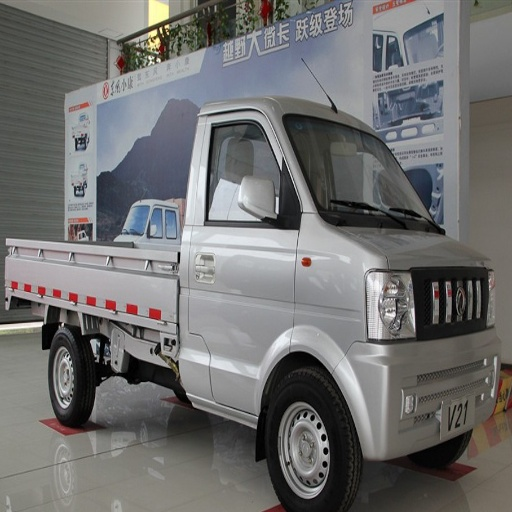front_bumper: (348, 329, 504, 456)
front_glass: (283, 116, 437, 230)
front_right_door: (198, 114, 301, 298)
front_right_light: (366, 268, 417, 342)
trunk: (187, 298, 291, 408), (56, 249, 173, 330)
